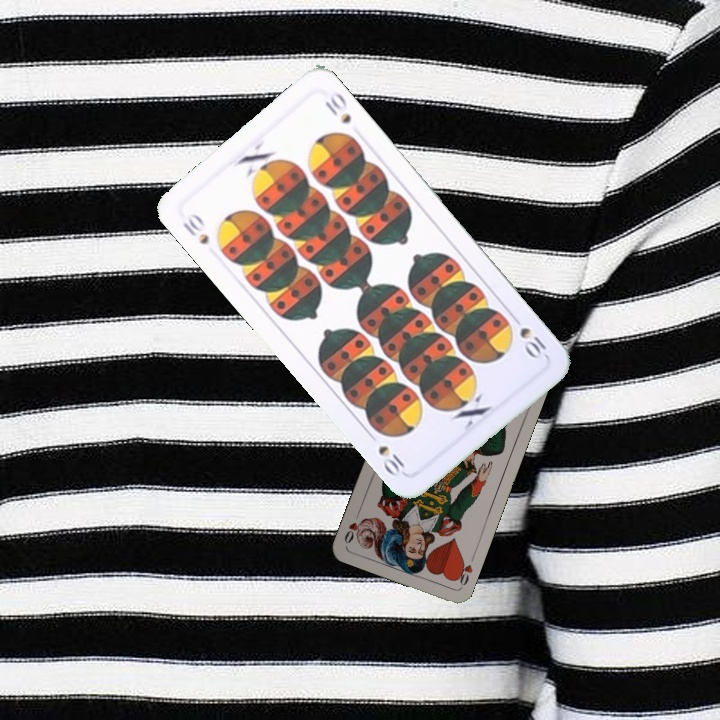HO: (451, 550, 477, 590)
S10: (515, 323, 549, 362), (178, 209, 212, 248)
